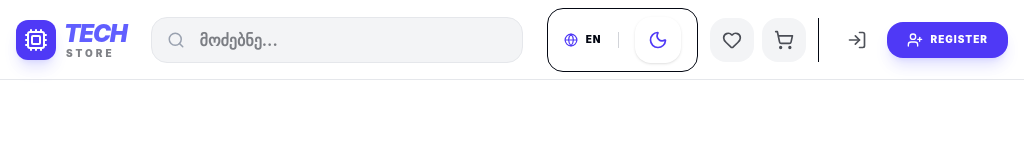
Scenario: Navbar Component › ენის გადამრთველი ღილაკი უნდა მუშაობდეს
Click the button with test id "lang-switcher" at (583, 40), box [564,32,602,47]
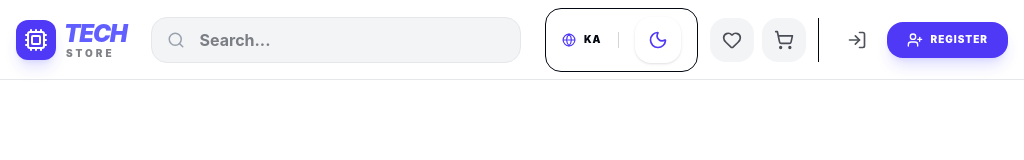
Now the button with test id "lang-switcher" no longer shows "EN"
